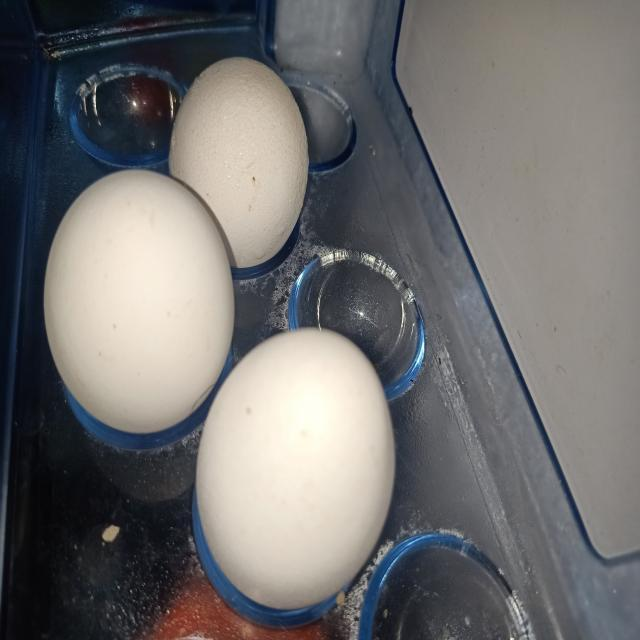Egg: (195, 328, 395, 611), (43, 169, 234, 450), (168, 56, 309, 268)
